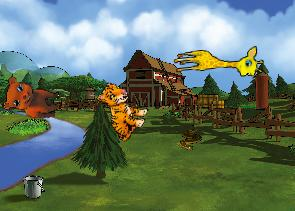bear: (3, 76, 61, 118)
giraffe: (172, 45, 264, 83)
tiger: (85, 78, 154, 145)
